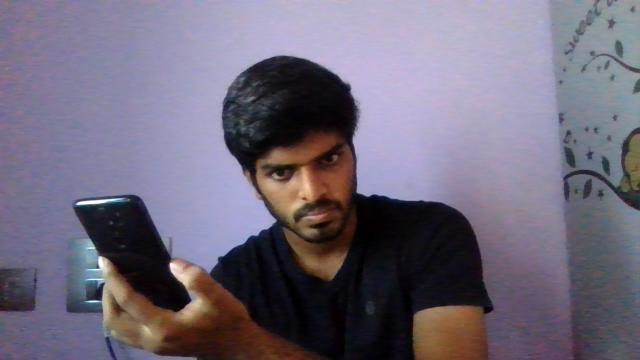PhoneUse: (71, 194, 193, 300)
SafeDriving: (314, 142, 346, 172), (264, 160, 300, 184)
